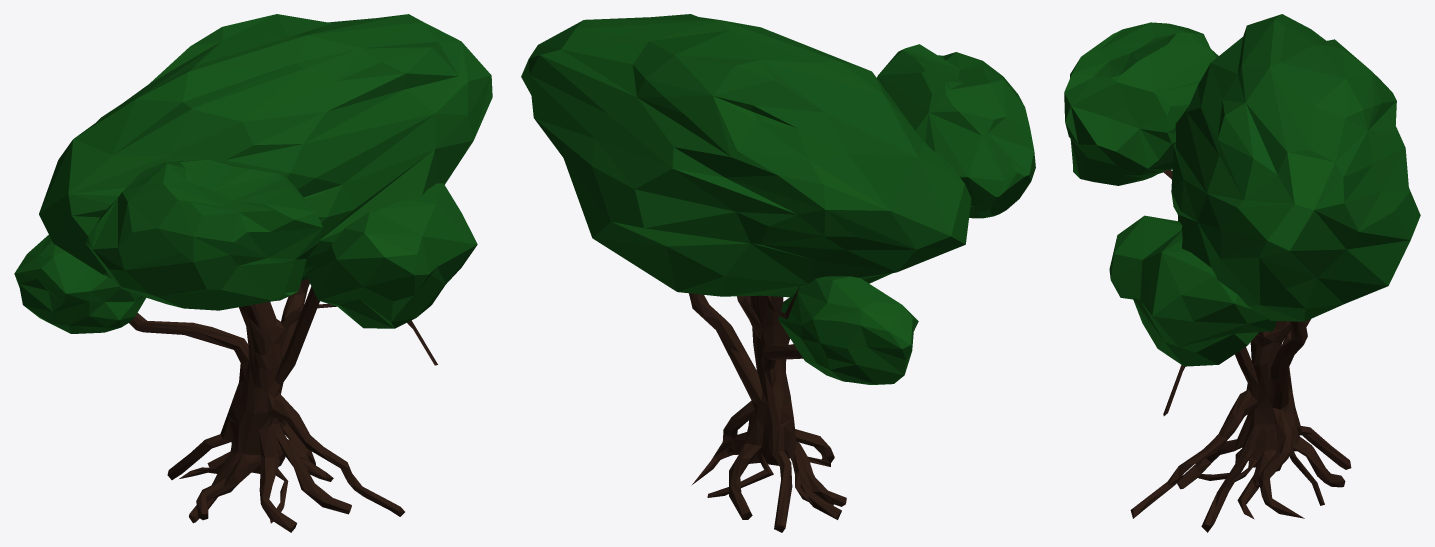
Rendered from SM_tree_02.fbx.
The picture shows the model from 3 angles, left to right: view 1: azimuth 30°, elevation 25°; view 2: azimuth 150°, elevation 25°; view 3: azimuth 270°, elevation 25°; orthographic projection. The views are drawn at different scales.
Visible parts, largest first — view 1: tree_02; view 2: tree_02; view 3: tree_02.
Part boxes in pixels (x1,y1,x2,y2): tree_02: [14, 14, 492, 532]; tree_02: [521, 14, 1035, 532]; tree_02: [1064, 14, 1420, 532].
Size of the model in its own units: 1429 by 1418 by 991.
